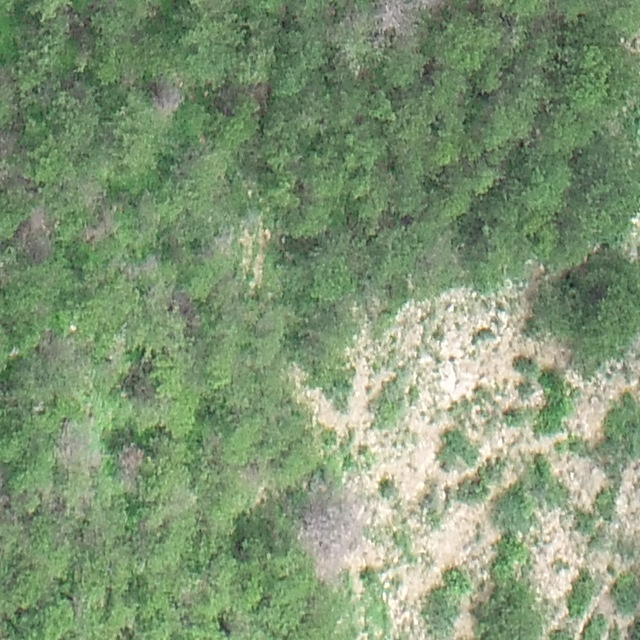unhealthy: (295, 487, 377, 563), (16, 204, 54, 260), (55, 419, 95, 469), (372, 0, 412, 36), (83, 207, 121, 244), (151, 79, 185, 117), (116, 442, 146, 485), (0, 126, 18, 160), (415, 0, 449, 16)
